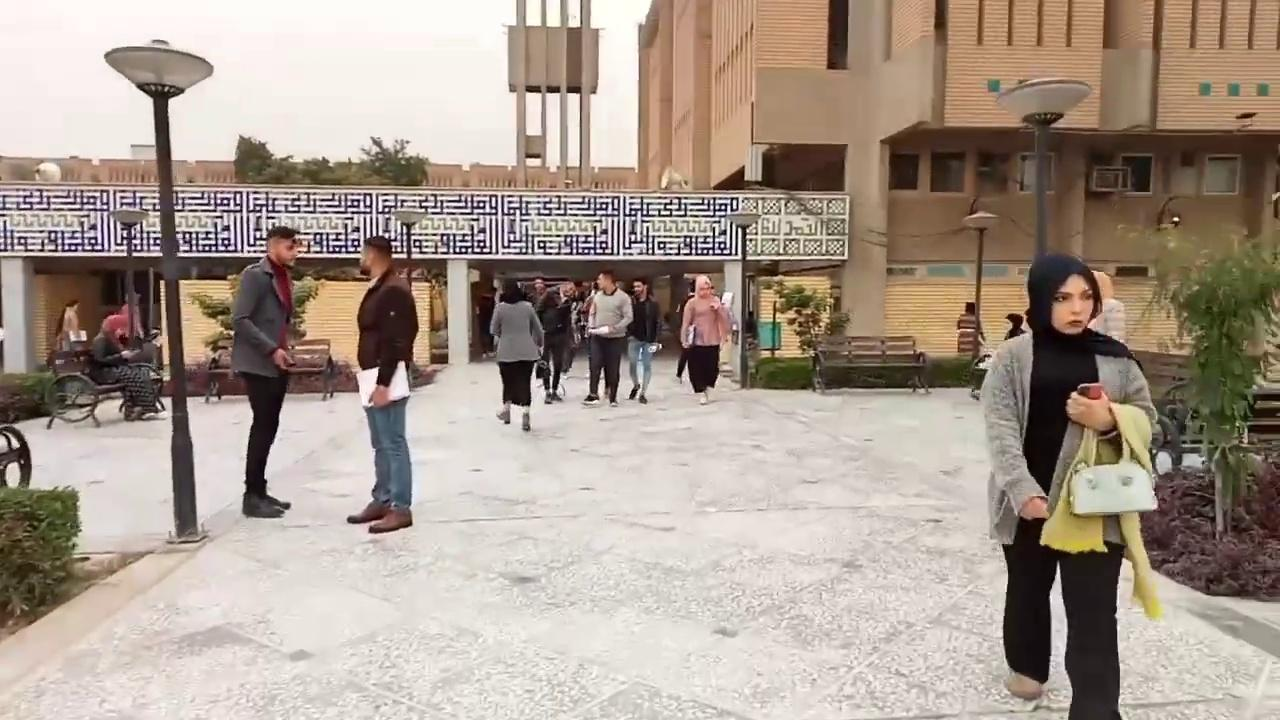person: (980, 251, 1160, 719), (346, 235, 419, 533), (230, 225, 301, 518), (91, 315, 166, 420), (678, 274, 731, 404), (1087, 269, 1127, 344), (956, 301, 986, 356), (53, 298, 79, 351), (1004, 312, 1026, 340)
tree: (1116, 217, 1279, 540), (187, 265, 320, 363), (0, 482, 81, 632), (232, 132, 430, 186), (760, 277, 851, 363), (357, 135, 429, 186), (187, 290, 235, 355), (286, 273, 318, 343), (232, 133, 273, 183), (299, 155, 335, 184)
